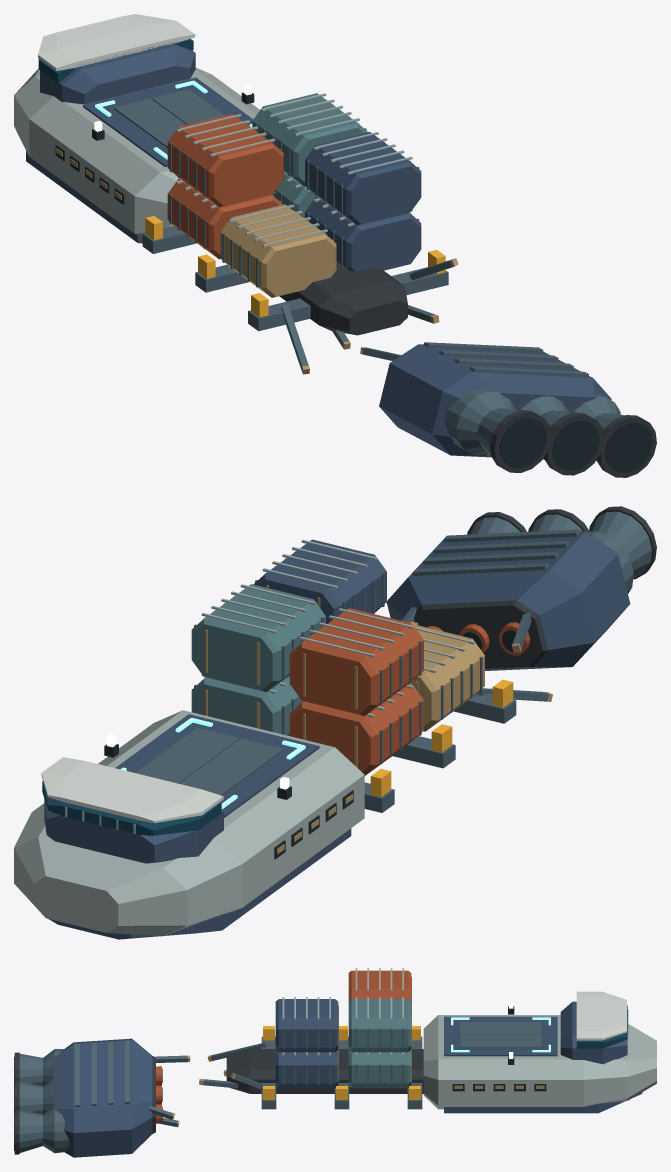
File: merchant-wreck.glb
3 views of the same model, one above another, from view 1: azimuth 30°, elevation 25°; view 2: azimuth 150°, elevation 25°; view 3: azimuth 270°, elevation 25° (orthographic). The views are drawn at different scales.
Parts seen in each view (by area): view 1: Cargo spine, Sheared stern, Crew section, Transfer deck; view 2: Crew section, Cargo spine, Sheared stern, Transfer deck; view 3: Cargo spine, Crew section, Sheared stern, Transfer deck.
Part boxes in pixels (x1,y1,x2,y2): Cargo spine: [142, 93, 458, 374]; Sheared stern: [360, 342, 656, 477]; Crew section: [14, 14, 259, 243]; Transfer deck: [83, 77, 254, 166]; Crew section: [14, 710, 364, 939]; Cargo spine: [191, 539, 552, 812]; Sheared stern: [386, 506, 656, 670]; Transfer deck: [104, 714, 319, 817]; Cargo spine: [199, 968, 423, 1109]; Crew section: [423, 991, 656, 1113]; Sheared stern: [14, 1038, 190, 1157]; Transfer deck: [444, 1001, 557, 1064].
Bounding box in the file's own units: 12.03 × 10.21 × 44.09.
